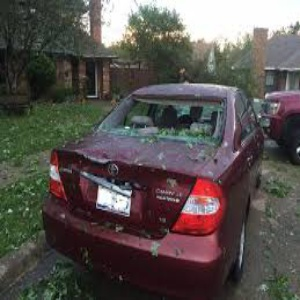rear_windshield_glass: (112, 97, 222, 141)
